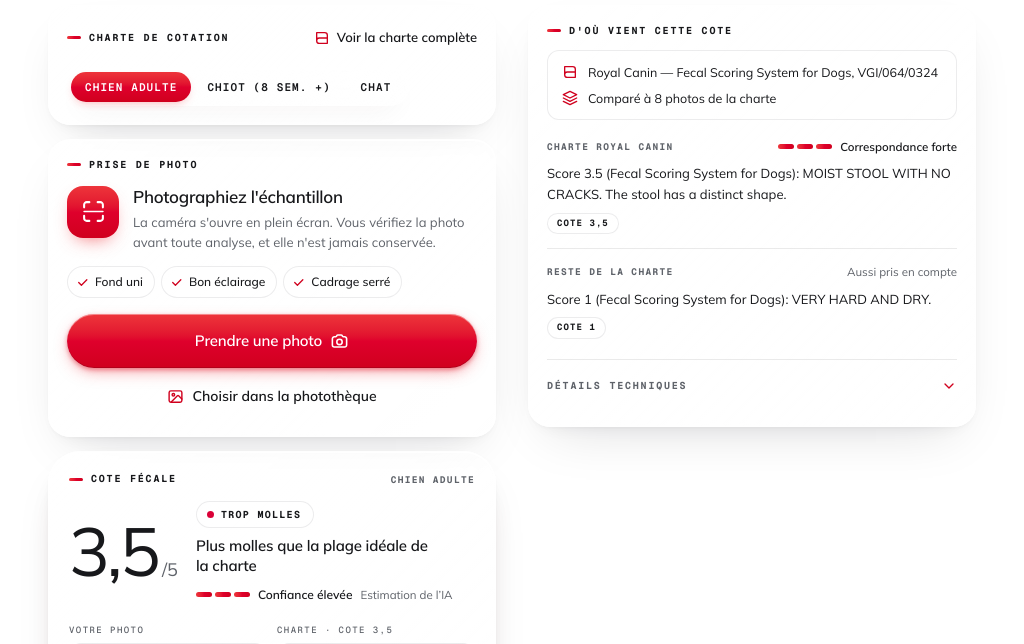
FecalScanScreen › names the search scope from the catalogs, not hardcoded English
(page scrolled)
Click the button "Détails techniques".
click(617, 386)  # box [547,360,957,408]
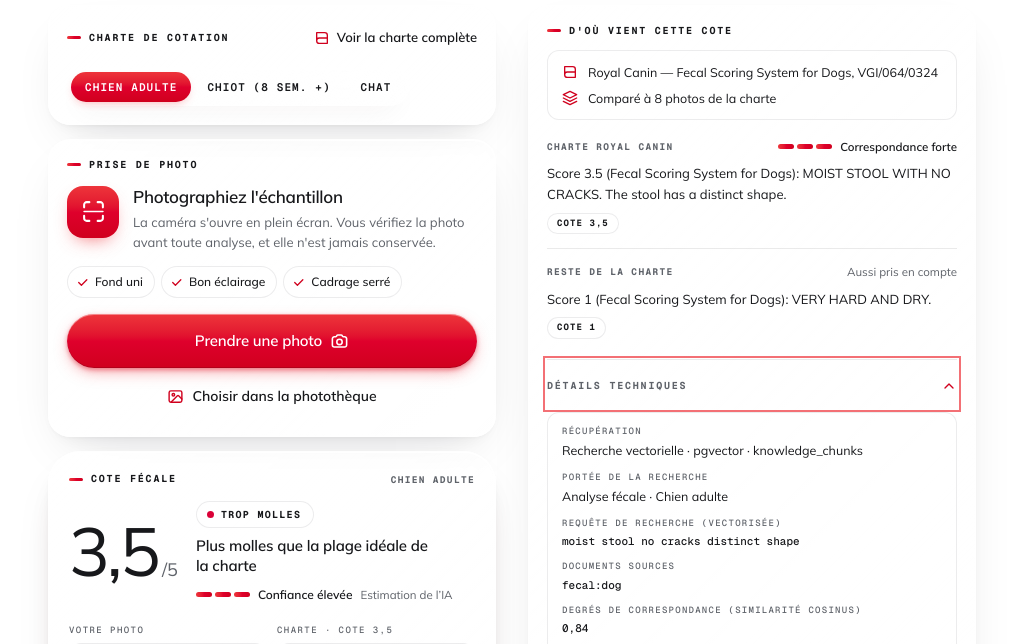
Check: the text "Analyse fécale · Chien adulte" is shown, box [562,488,728,504]
